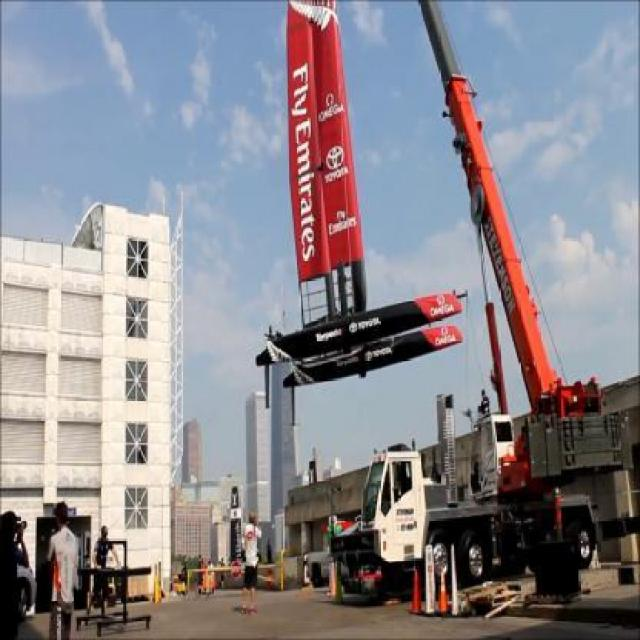Mobile Crane: (325, 0, 637, 594)
